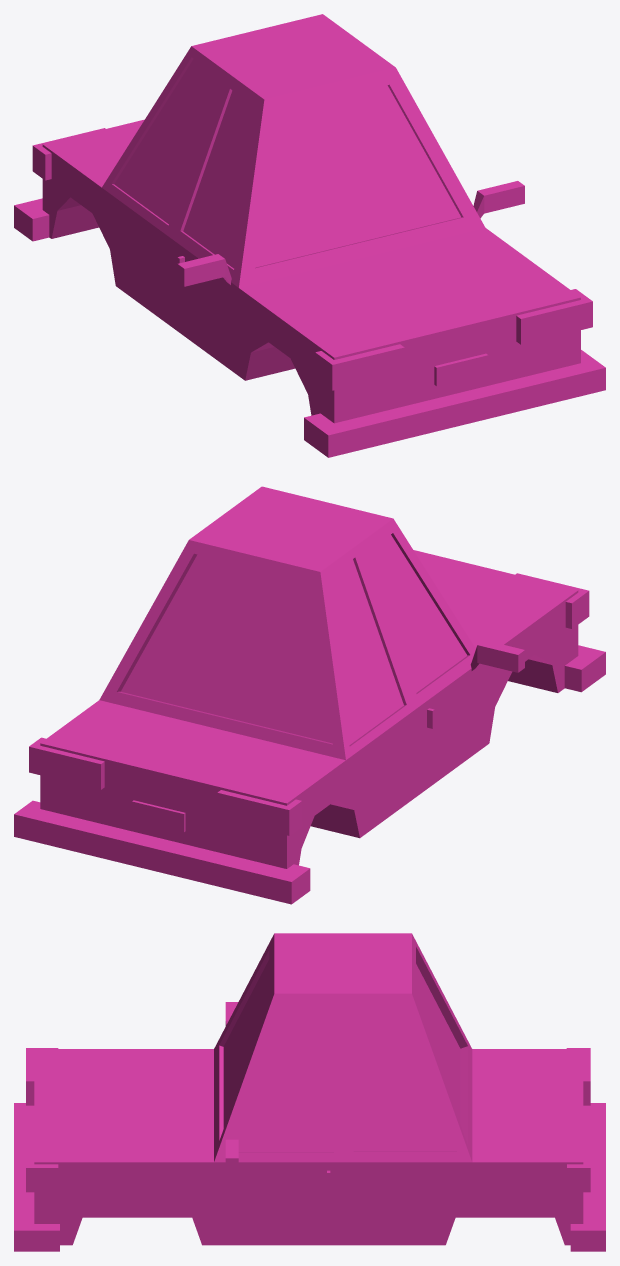
File: car_with_no_wheels.fbx
The picture shows the model from 3 angles, top to bottom: view 1: azimuth 30°, elevation 25°; view 2: azimuth 150°, elevation 25°; view 3: azimuth 270°, elevation 25°; orthographic projection. The views are drawn at different scales.
Visible parts, largest first — view 1: Cube; view 2: Cube; view 3: Cube.
Part boxes in pixels (box(x1,y1,x2,y2)): Cube: box(14, 14, 605, 457); Cube: box(14, 486, 605, 904); Cube: box(14, 933, 605, 1251).
Bounding box in the file's own units: 276 × 185 × 441.
